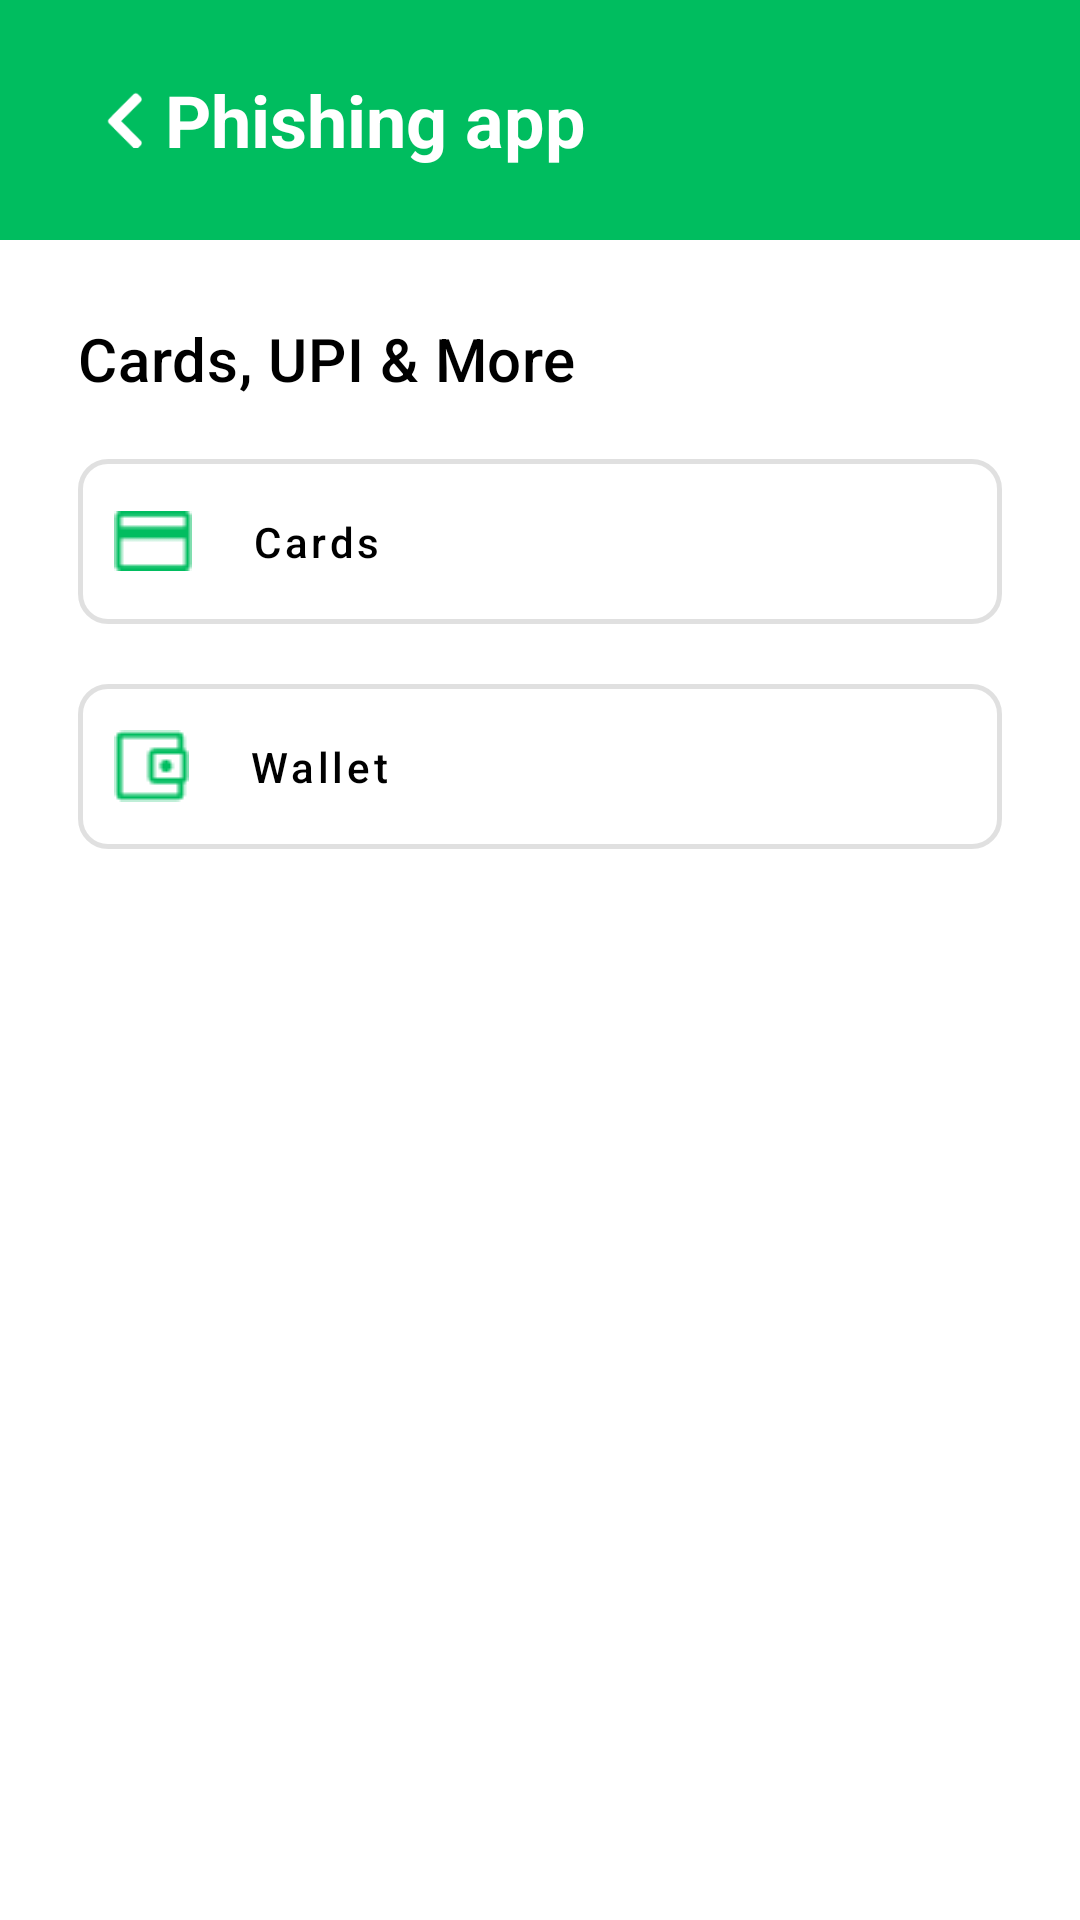

Icon click points for this 1080*1920 phone screenshot, format [x,y]:
back: [124,120]
